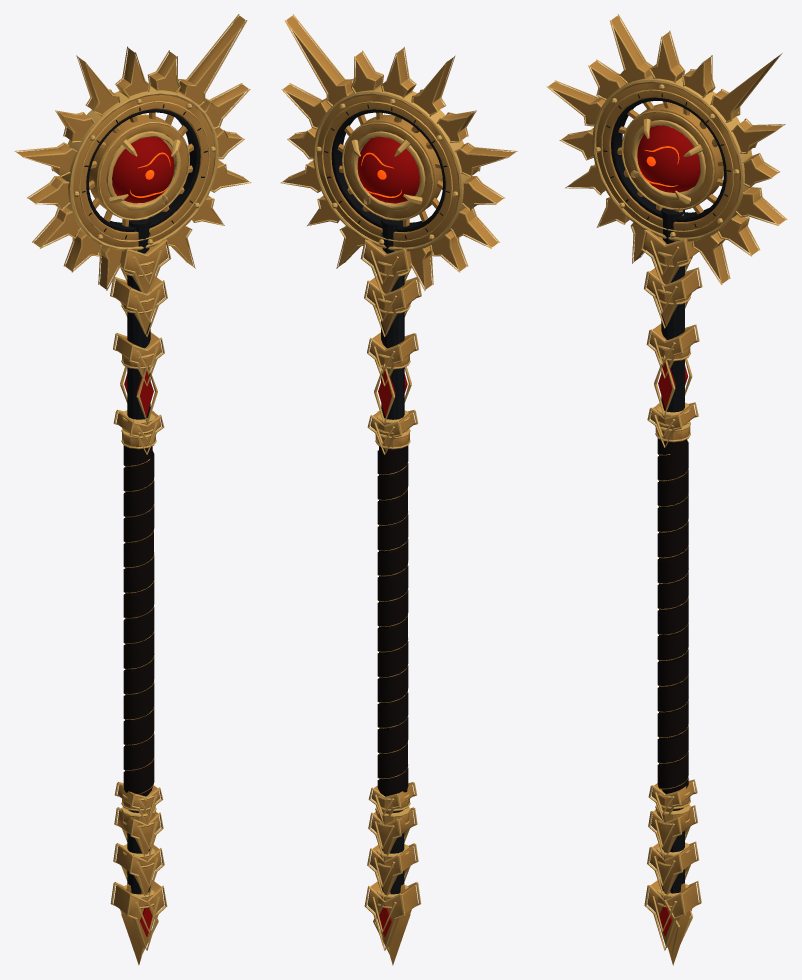
File: Aetheria_Solarfire_Staff.fbx
3 views of the same model, side by side, from view 1: azimuth 30°, elevation 25°; view 2: azimuth 150°, elevation 25°; view 3: azimuth 330°, elevation 25° (orthographic).
Parts seen in each view (by area): view 1: Aetheria_Solarfire_Staff; view 2: Aetheria_Solarfire_Staff; view 3: Aetheria_Solarfire_Staff.
Boxes of the visible parts, <box> form: Aetheria_Solarfire_Staff: <box>14,14,251,964</box>; Aetheria_Solarfire_Staff: <box>280,14,517,965</box>; Aetheria_Solarfire_Staff: <box>546,14,787,965</box>.
Bounding box in the file's own units: 53.54 × 206 × 13.89.
